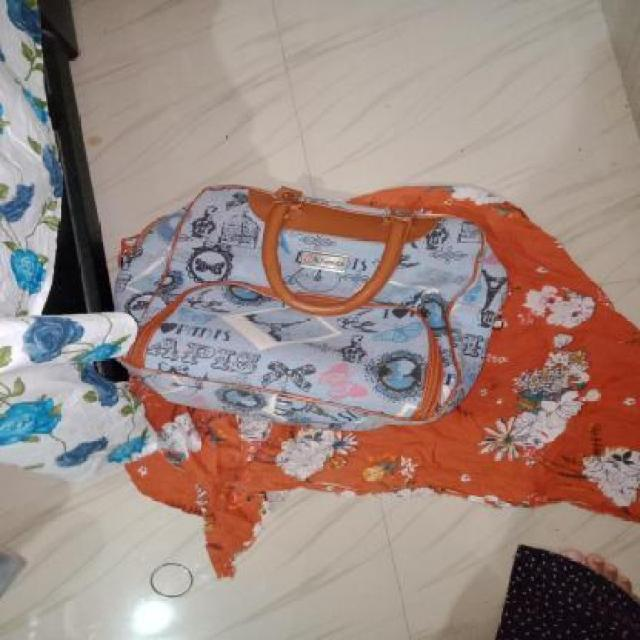backpack: (108, 177, 514, 437)
